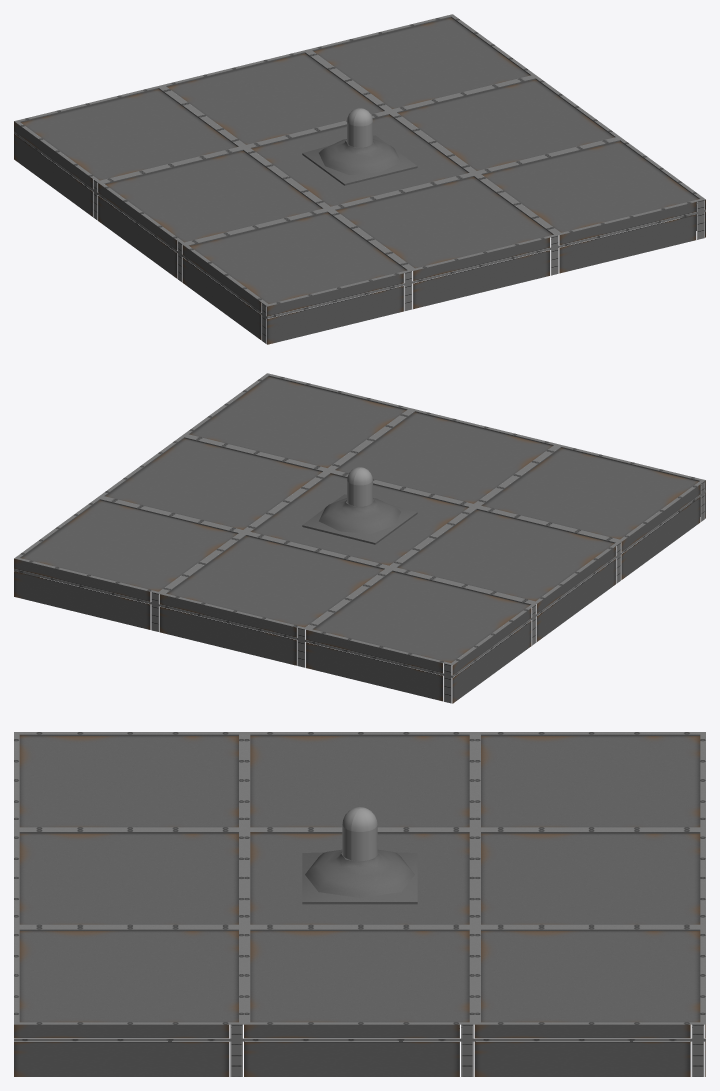
The model's file is Roof_With_Light.FBX.
3 renders of one model, top to bottom at view 1: azimuth 30°, elevation 25°; view 2: azimuth 150°, elevation 25°; view 3: azimuth 270°, elevation 25°, orthographic. The views are drawn at different scales.
Parts seen in each view (by area): view 1: Box001, Box002, Object004; view 2: Box001, Box002, Object004; view 3: Box001, Box002, Object004.
Part boxes in pixels (box(x1,y1,x2,y2)): Box001: box(14, 14, 705, 344); Box002: box(302, 135, 417, 185); Object004: box(347, 108, 372, 147); Box001: box(14, 373, 705, 703); Box002: box(302, 494, 417, 544); Object004: box(347, 467, 372, 506); Box001: box(14, 732, 705, 1076); Box002: box(302, 849, 417, 904); Object004: box(342, 807, 377, 860).
Bounding box in the file's own units: 24 × 4.67 × 24.
